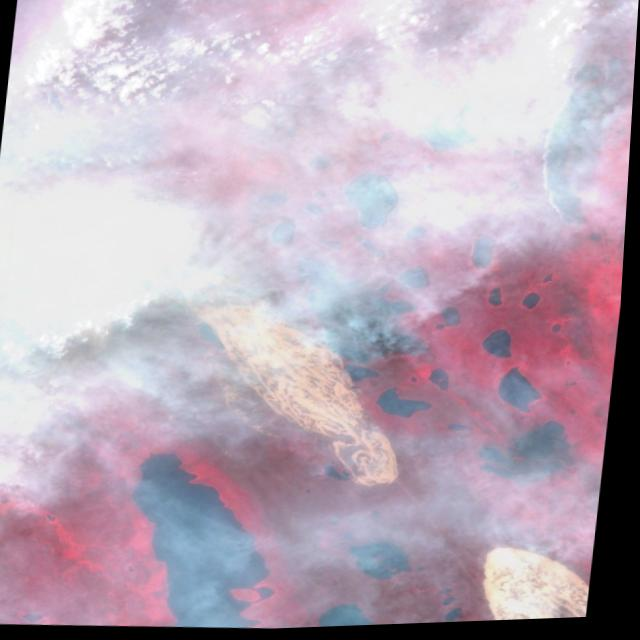fire: (346, 264, 403, 313)
